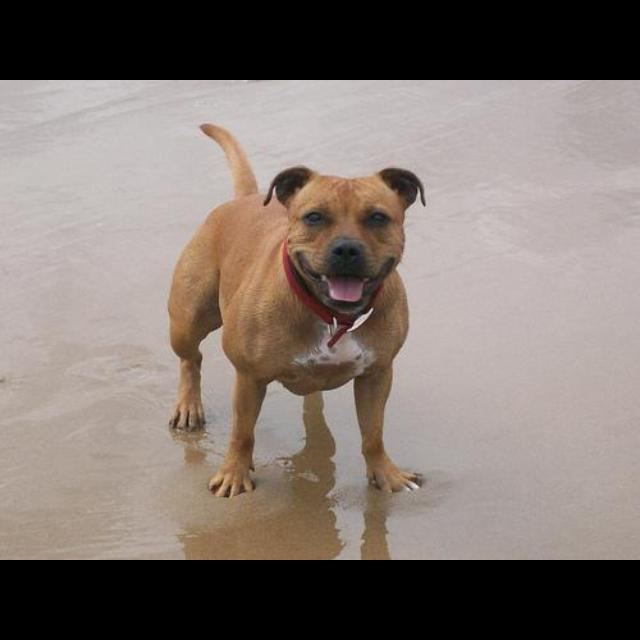staffford: (167, 123, 428, 500)
